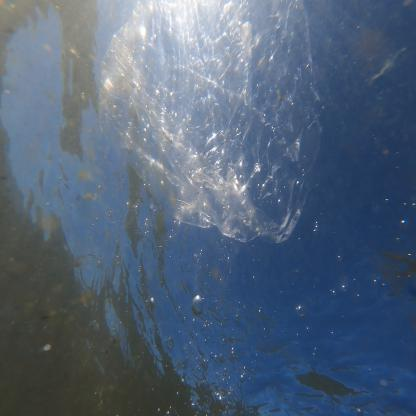Rác: (101, 5, 325, 245)
